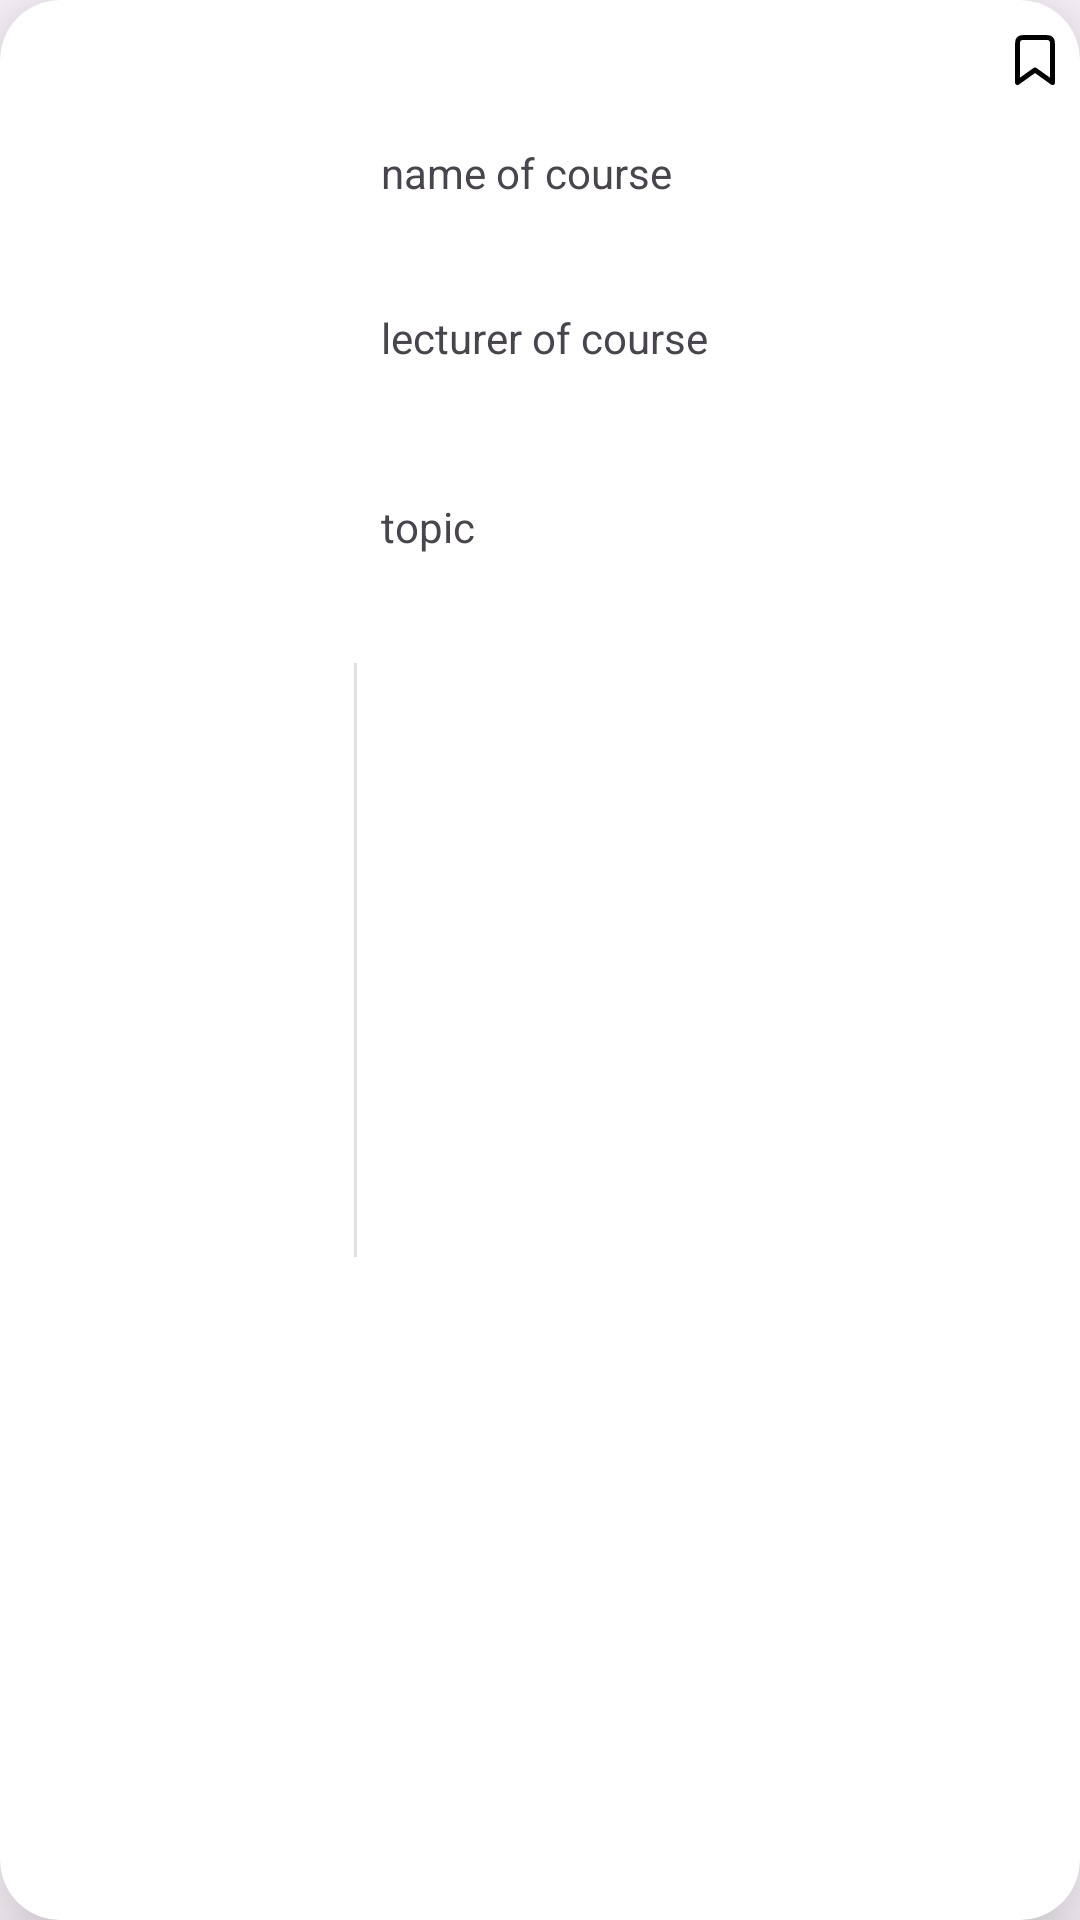

Locate icon controls on the screen. Image size 1080px×1920px, boxes as box(x1, y1, x2, y2).
bookmark: box(1015, 35, 1055, 85)
